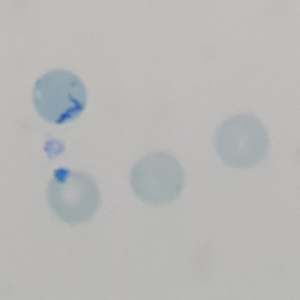aggregate reticulocyte: (30, 68, 90, 126)
erythrocyte: (43, 165, 102, 227), (210, 112, 271, 171), (127, 152, 186, 208)
